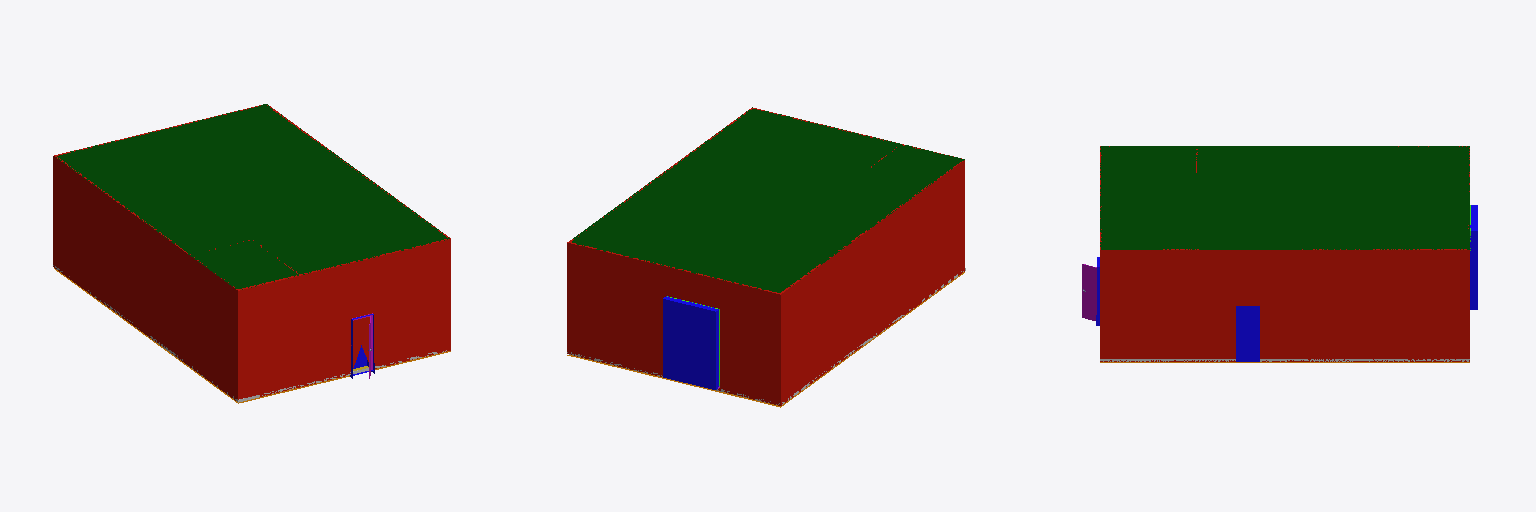
File: room3.obj
The picture shows the model from 3 angles: view 1: azimuth 30°, elevation 25°; view 2: azimuth 150°, elevation 25°; view 3: azimuth 270°, elevation 25°; orthographic projection.
Visible parts, largest first — view 1: Room.001_temp.001, Ceiling; view 2: Room.001_temp.001, Ceiling, CTRL_Hole.004, Plane; view 3: Room.001_temp.001, Ceiling, CTRL_Hole.001, CTRL_Hole.004, Door.003_Door, Baseboard.001.
Part boxes in pixels (x1,y1,x2,y2): Room.001_temp.001: (53,105,450,400); Ceiling: (56,104,449,289); Room.001_temp.001: (567,108,964,405); Ceiling: (572,107,964,292); CTRL_Hole.004: (663,296,718,389); Plane: (567,272,964,407); Room.001_temp.001: (1100,146,1469,361); Ceiling: (1100,146,1469,249); CTRL_Hole.001: (1236,306,1259,361); CTRL_Hole.004: (1470,205,1477,309); Door.003_Door: (1082,264,1096,320); Baseboard.001: (1100,359,1469,361).
Bounding box in the file's own units: 10.09 × 5.12 × 16.04.